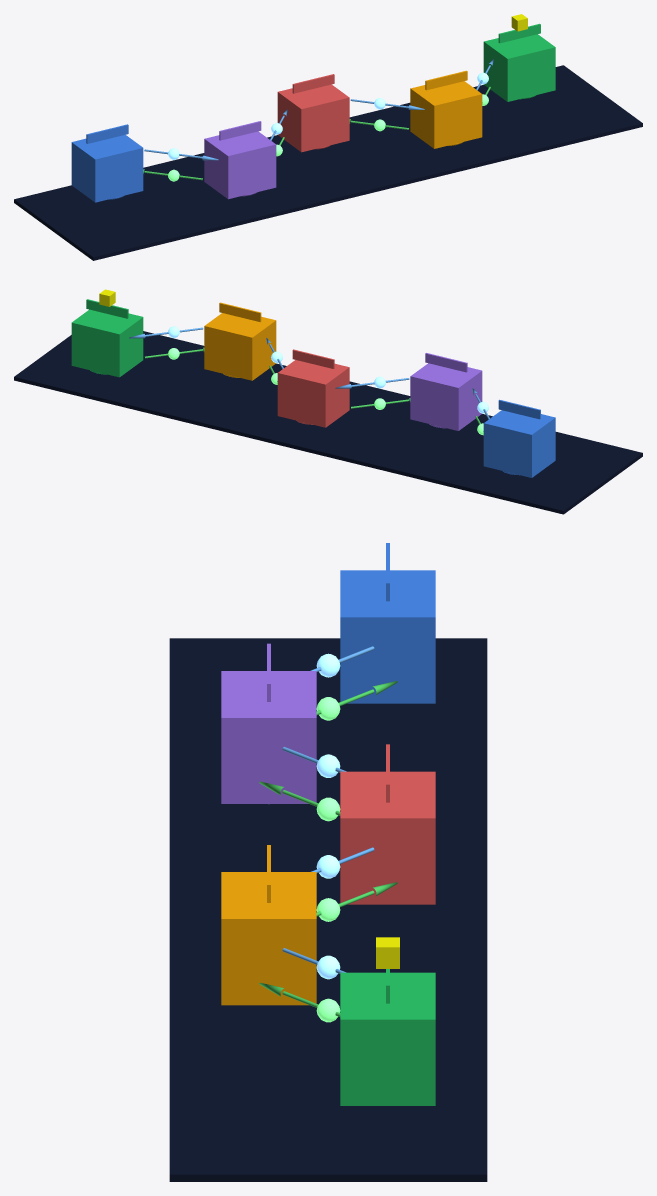
File: dns_resolution.glb
The picture shows the model from 3 angles, top to bottom: view 1: azimuth 30°, elevation 25°; view 2: azimuth 150°, elevation 25°; view 3: azimuth 270°, elevation 25°; orthographic projection. The views are drawn at different scales.
Visible parts, largest first — view 1: Platform, Client, Resolver, TLD, Root, Authoritative, Client_Label, Resolver_Label, TLD_Label, Root_Label, Authoritative_Label; view 2: Platform, Client, Root, Authoritative, Resolver, TLD, TLD_Label, Client_Label, Resolver_Label, Root_Label, Authoritative_Label; view 3: Platform, Authoritative, Client, Root, TLD, Resolver.
Boxes of the visible parts, left/top/right/bottom form: Platform: left=14, top=65, right=642, bottom=260; Client: left=71, top=135, right=143, bottom=202; Resolver: left=204, top=131, right=276, bottom=199; TLD: left=410, top=81, right=482, bottom=148; Root: left=277, top=84, right=349, bottom=152; Authoritative: left=483, top=34, right=555, bottom=101; Client_Label: left=86, top=124, right=128, bottom=143; Resolver_Label: left=219, top=121, right=261, bottom=140; TLD_Label: left=425, top=70, right=467, bottom=90; Root_Label: left=292, top=74, right=334, bottom=93; Authoritative_Label: left=498, top=23, right=540, bottom=43; Platform: left=14, top=331, right=642, bottom=514; Client: left=483, top=410, right=555, bottom=477; Root: left=277, top=360, right=349, bottom=427; Authoritative: left=71, top=309, right=143, bottom=377; Resolver: left=410, top=363, right=482, bottom=430; TLD: left=204, top=313, right=276, bottom=380; TLD_Label: left=219, top=302, right=261, bottom=322; Client_Label: left=498, top=399, right=540, bottom=419; Resolver_Label: left=425, top=353, right=467, bottom=372; Root_Label: left=292, top=349, right=334, bottom=368; Authoritative_Label: left=86, top=299, right=128, bottom=318; Platform: left=169, top=638, right=487, bottom=1181; Authoritative: left=340, top=972, right=435, bottom=1105; Client: left=340, top=570, right=435, bottom=703; Root: left=340, top=771, right=435, bottom=904; TLD: left=221, top=872, right=316, bottom=1005; Resolver: left=221, top=671, right=316, bottom=803.
Size of the model in its own units: 16 by 2.4 by 4.
